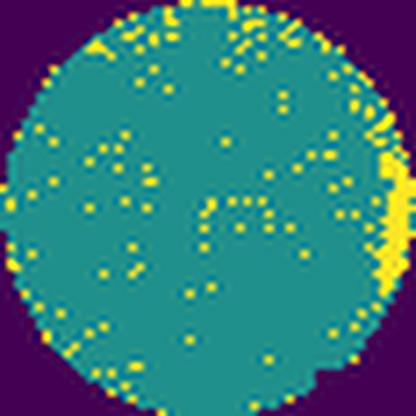Edge-Loc: (371, 146, 416, 301)
